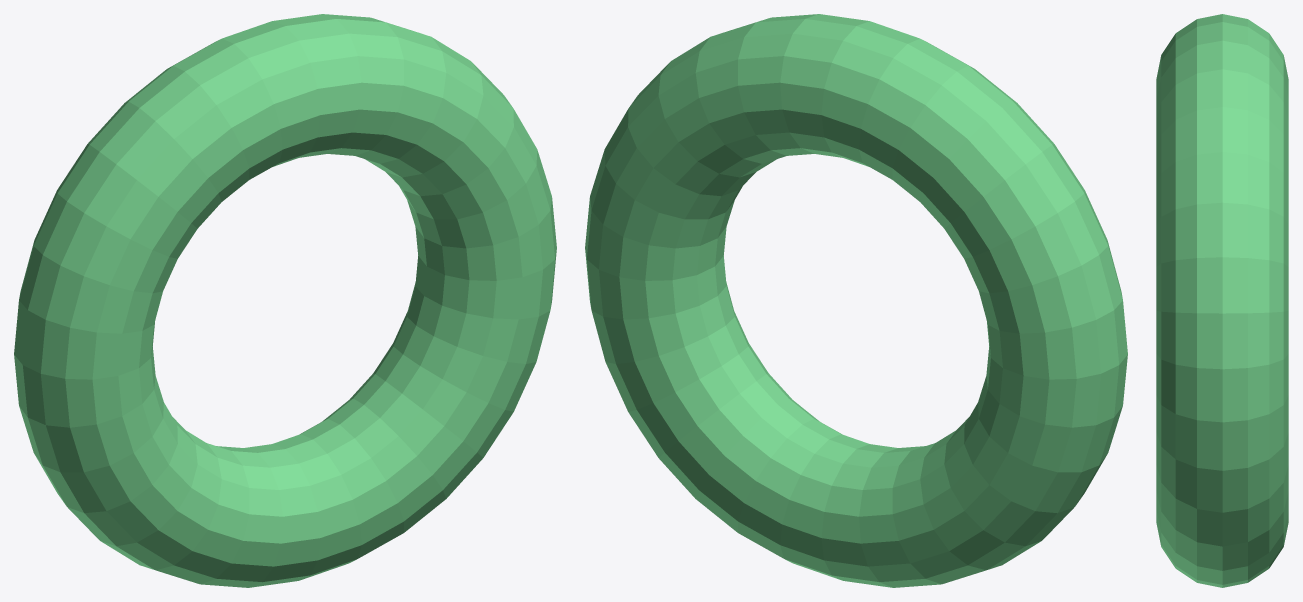
3 views of the same model, side by side, from view 1: azimuth 30°, elevation 25°; view 2: azimuth 150°, elevation 25°; view 3: azimuth 270°, elevation 25° (orthographic). The views are drawn at different scales.
Visible parts, largest first — view 1: geometry_0; view 2: geometry_0; view 3: geometry_0.
Boxes of the visible parts, x1=… form: geometry_0: x1=14, y1=14, x2=556, y2=587; geometry_0: x1=585, y1=14, x2=1127, y2=587; geometry_0: x1=1156, y1=14, x2=1288, y2=587.
Size of the model in its own units: 2.6 by 2.6 by 0.6.
